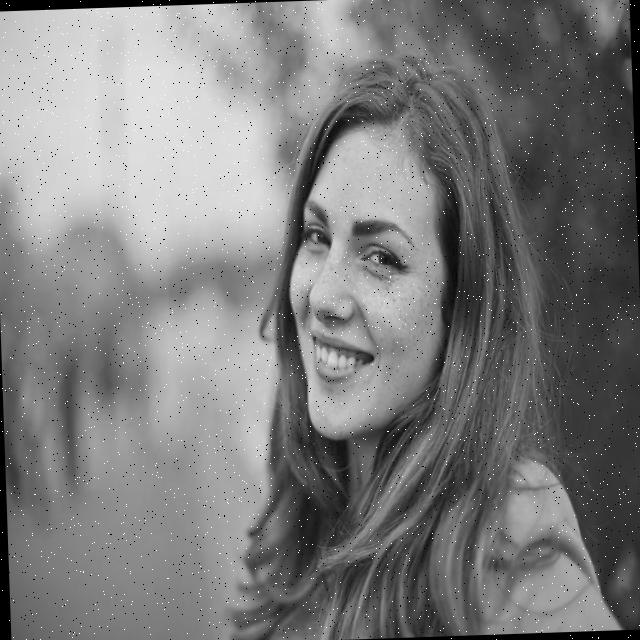Happiness: (274, 105, 466, 448)
